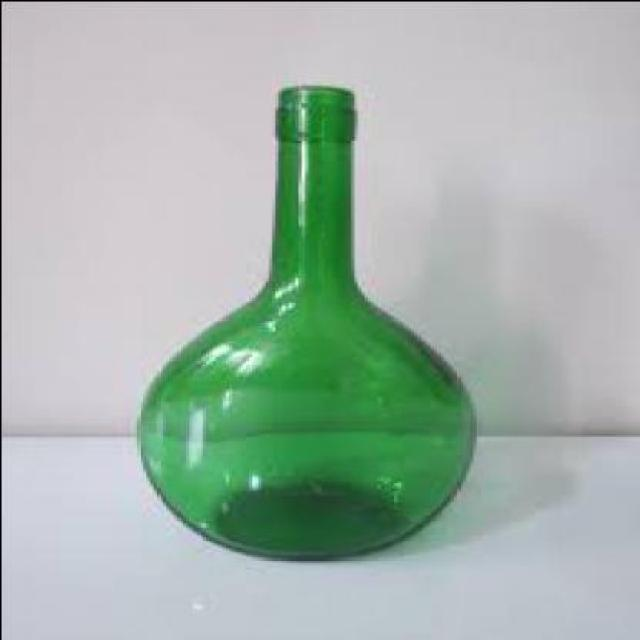GLASS: (138, 82, 478, 556)
